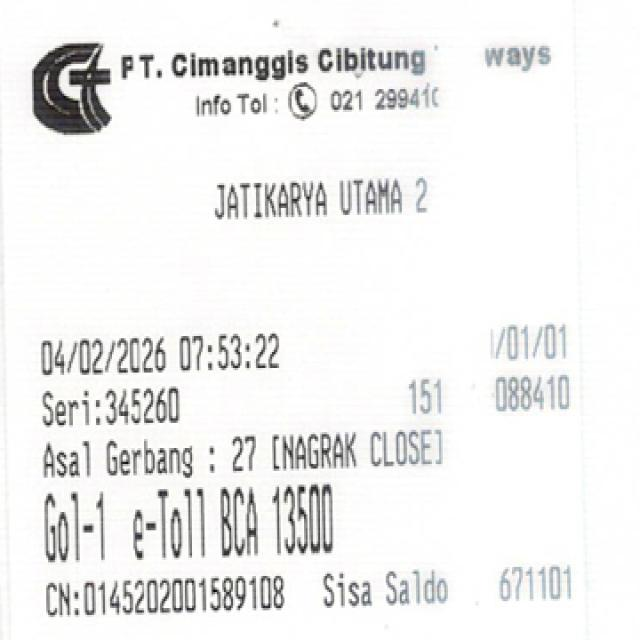date: (26, 336, 292, 376)
store: (120, 53, 429, 82)
total: (270, 485, 364, 559)
